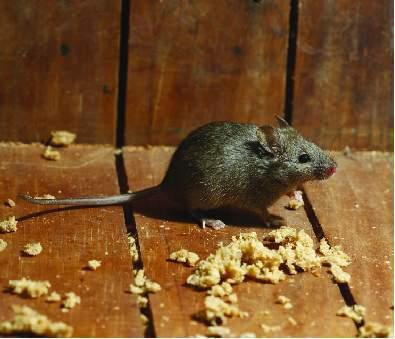rat: (17, 114, 338, 230)
